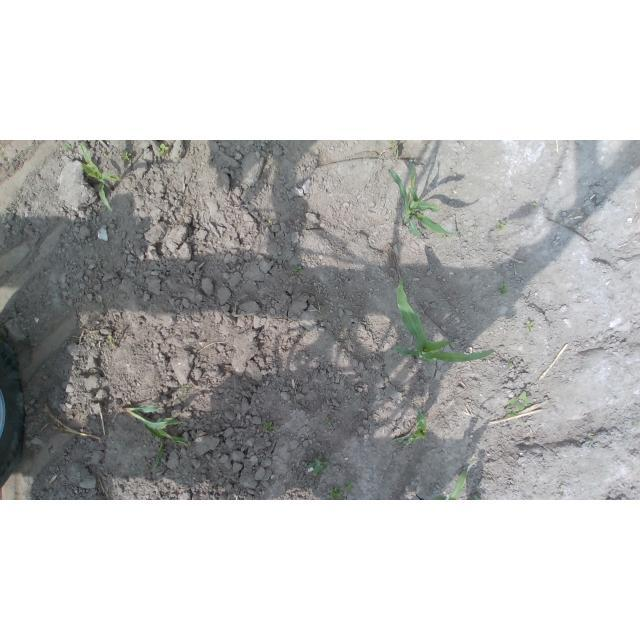Maize: (393, 278, 495, 363), (388, 160, 464, 240), (120, 404, 197, 473), (77, 141, 122, 212), (414, 458, 483, 500), (390, 404, 426, 445)
Weeds: (505, 390, 531, 418), (308, 455, 330, 478), (328, 486, 344, 500), (157, 143, 170, 155), (262, 421, 276, 432), (388, 140, 399, 154), (344, 480, 356, 492), (499, 282, 509, 296), (121, 149, 132, 161), (524, 321, 535, 331), (293, 264, 304, 274), (496, 221, 506, 231), (468, 494, 481, 500), (65, 142, 73, 150), (325, 417, 331, 426), (181, 384, 187, 391), (507, 361, 513, 368), (266, 220, 272, 227), (531, 203, 538, 208), (109, 336, 113, 343), (442, 234, 447, 239), (0, 151, 4, 157), (194, 350, 198, 353)
